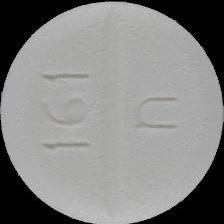43063-707: (0, 0, 224, 224)
